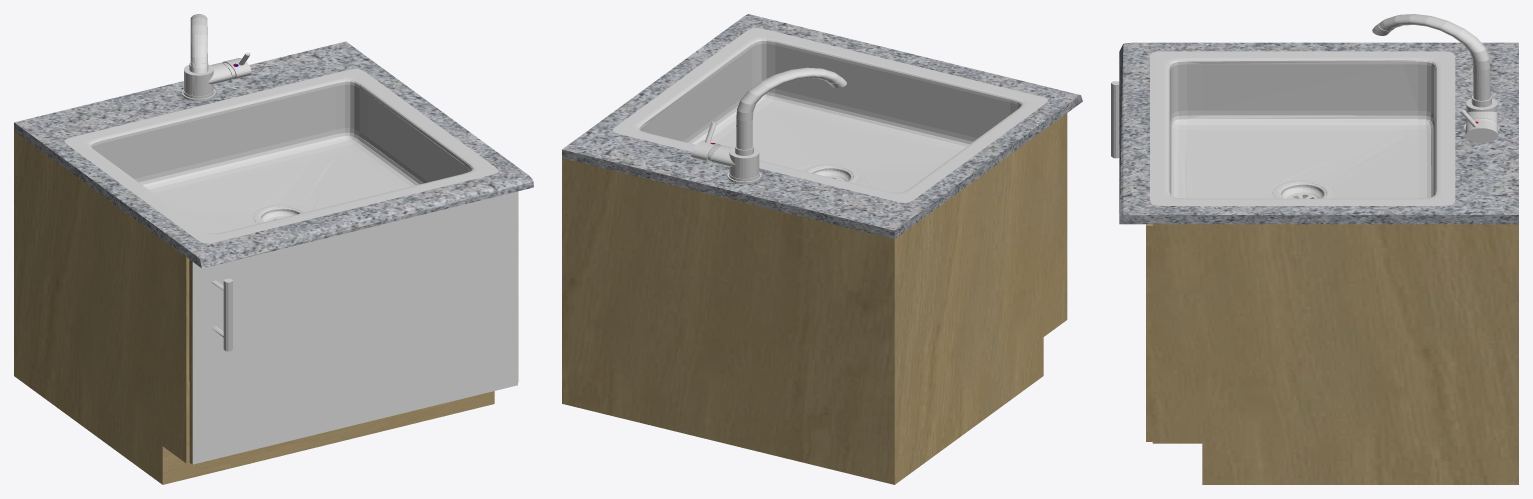
File: sh-bs0-sink-cabinet2.glb
The picture shows the model from 3 angles, left to right: view 1: azimuth 30°, elevation 25°; view 2: azimuth 150°, elevation 25°; view 3: azimuth 270°, elevation 25°; orthographic projection. The views are drawn at different scales.
Visible parts, largest first — view 1: GC_100L.003_Cube.002, Cylinder.001; view 2: GC_100L.003_Cube.002, Cylinder.001; view 3: GC_100L.003_Cube.002, Cylinder.001.
Part boxes in pixels (left/top/right/bottom): GC_100L.003_Cube.002: left=14, top=41, right=533, bottom=484; Cylinder.001: left=64, top=14, right=498, bottom=243; GC_100L.003_Cube.002: left=562, top=14, right=1082, bottom=484; Cylinder.001: left=613, top=28, right=1047, bottom=202; GC_100L.003_Cube.002: left=1111, top=42, right=1518, bottom=484; Cylinder.001: left=1150, top=14, right=1499, bottom=205.
Size of the model in its own units: 1 by 1 by 1.
7 materials, 2 textured.
